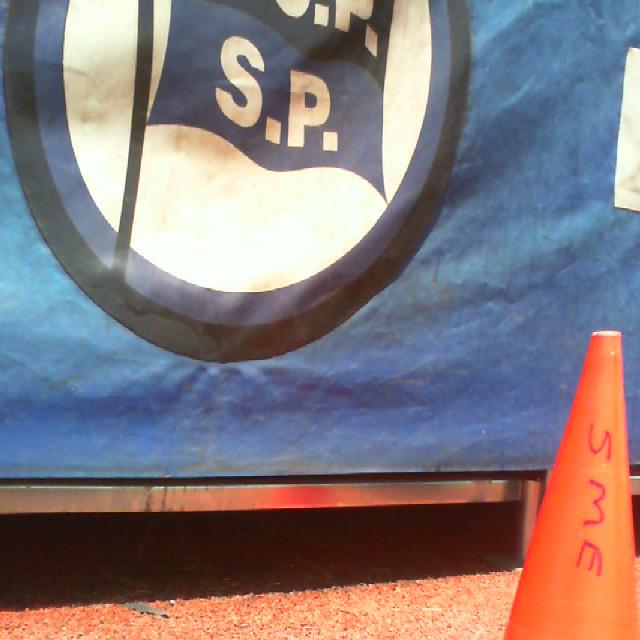cone: (502, 331, 640, 638)
